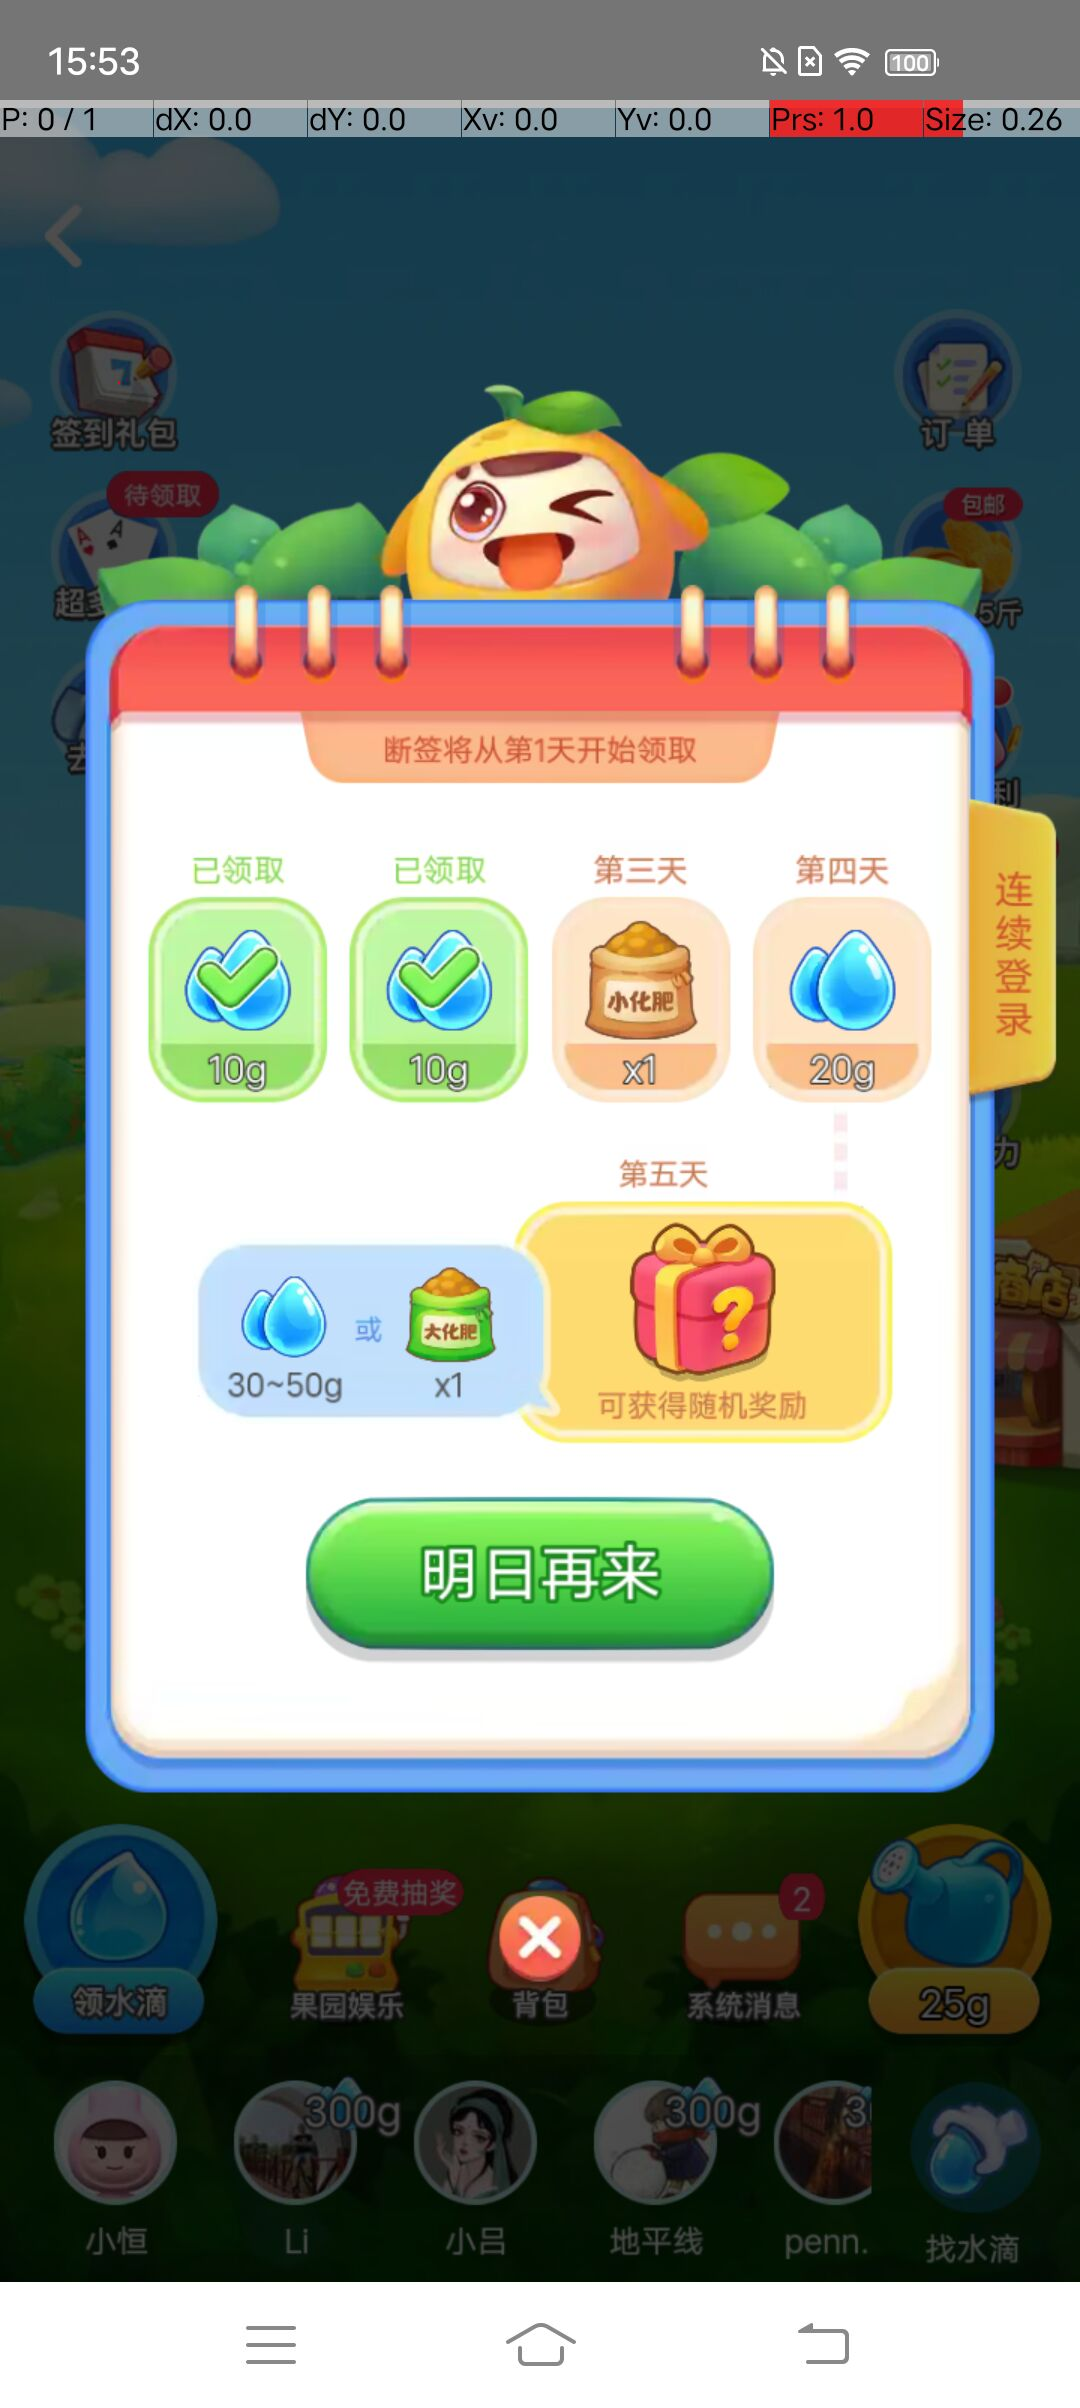popup: (505, 1907, 582, 1967)
